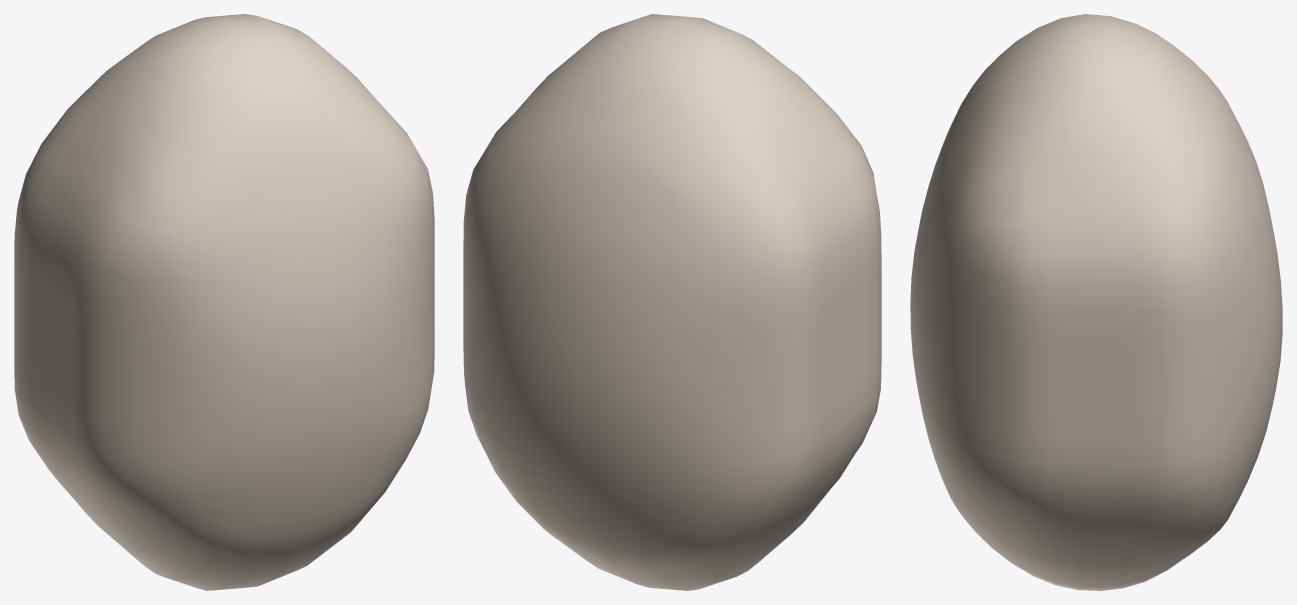
Rendered from egg.fbx.
3 views of the same model, side by side, from view 1: azimuth 30°, elevation 25°; view 2: azimuth 150°, elevation 25°; view 3: azimuth 270°, elevation 25° (orthographic).
Visible parts, largest first — view 1: Plane; view 2: Plane; view 3: Plane.
Boxes of the visible parts, x1,y1,x2,y2 form: Plane: (14,14,434,590); Plane: (463,14,881,590); Plane: (910,14,1282,590).
Bounding box in the file's own units: 138 × 213 × 130.
